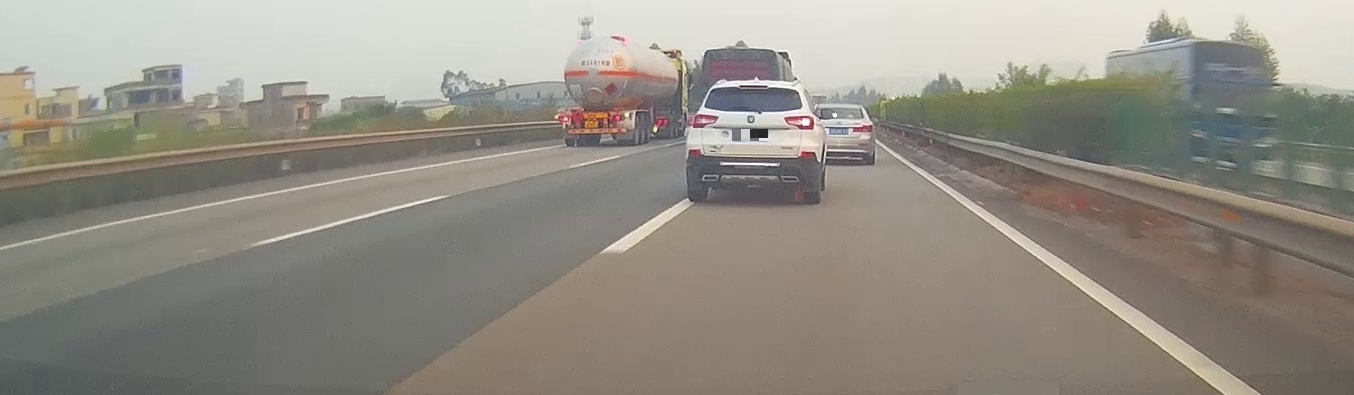L_light: (690, 114, 719, 128), (559, 116, 569, 122)
R_light: (783, 114, 815, 130), (612, 114, 625, 121)
T_light: (738, 84, 769, 90), (587, 112, 598, 115)
day-no: (553, 107, 637, 148)
day-right: (684, 80, 820, 205)
plate_1: (732, 129, 768, 141)
